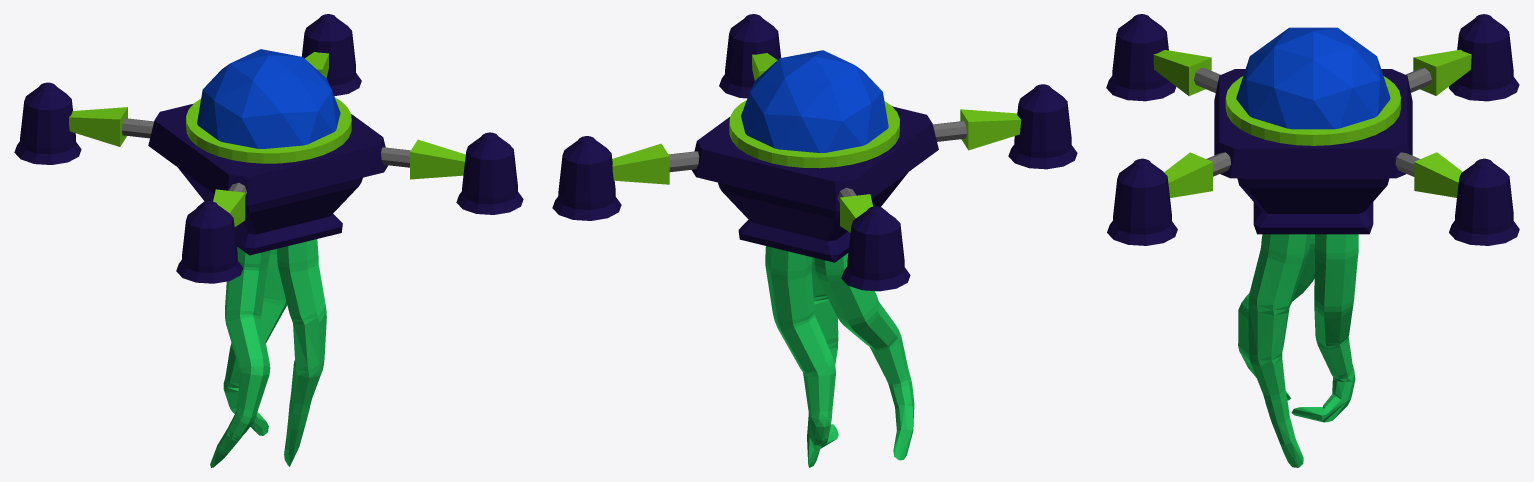
File: jellyfishBoss_18.obj
3 views of the same model, side by side, from view 1: azimuth 30°, elevation 25°; view 2: azimuth 150°, elevation 25°; view 3: azimuth 270°, elevation 25° (orthographic). The views are drawn at different scales.
Visible parts, largest first — view 1: Base_Cube.001, Head_Icosphere, Cylinder.002_Cylinder.001, Cylinder.003_Cylinder.002, Rocket_2_Cylinder.014, Rocket_1_Cylinder.003, Rocket_3_Cylinder.016, Cylinder, Rocket_4_Cylinder.018, Cylinder.001_Cylinder.012, B_Arm_1_Cube.002, B_Arm_3_Cube.011 (+2 smaller); view 2: Base_Cube.001, Head_Icosphere, Cylinder.001_Cylinder.012, Cylinder.003_Cylinder.002, Rocket_3_Cylinder.016, Rocket_4_Cylinder.018, Rocket_2_Cylinder.014, Cylinder, Rocket_1_Cylinder.003, B_Arm_4_Cube.012, B_Arm_2_Cube.010, Cylinder.002_Cylinder.001 (+3 smaller); view 3: Base_Cube.001, Head_Icosphere, Cylinder.002_Cylinder.001, Cylinder.001_Cylinder.012, Rocket_1_Cylinder.003, Rocket_4_Cylinder.018, Rocket_3_Cylinder.016, Rocket_2_Cylinder.014, Cylinder, B_Arm_2_Cube.010, B_Arm_3_Cube.011, B_Arm_4_Cube.012 (+4 smaller).
Part boxes in pixels (x1,y1,x2,y2): Base_Cube.001: (148, 103, 388, 255); Head_Icosphere: (197, 49, 340, 148); Cylinder.002_Cylinder.001: (276, 239, 326, 466); Cylinder.003_Cylinder.002: (210, 247, 270, 467); Rocket_2_Cylinder.014: (176, 201, 243, 283); Rocket_1_Cylinder.003: (456, 132, 523, 214); Rocket_3_Cylinder.016: (14, 82, 81, 164); Cylinder: (186, 97, 351, 163); Rocket_4_Cylinder.018: (302, 14, 361, 96); Cylinder.001_Cylinder.012: (223, 249, 287, 435); B_Arm_1_Cube.002: (410, 139, 465, 179); B_Arm_3_Cube.011: (69, 107, 127, 146); Base_Cube.001: (691, 106, 938, 262); Head_Icosphere: (741, 50, 888, 152); Cylinder.001_Cylinder.012: (765, 246, 838, 449); Cylinder.003_Cylinder.002: (814, 253, 914, 460); Rocket_3_Cylinder.016: (841, 206, 910, 291); Rocket_4_Cylinder.018: (552, 136, 621, 220); Rocket_2_Cylinder.014: (1008, 84, 1077, 169); Cylinder: (729, 100, 899, 168); Rocket_1_Cylinder.003: (719, 14, 781, 98); B_Arm_4_Cube.012: (612, 143, 669, 184); B_Arm_2_Cube.010: (960, 109, 1021, 150); Cylinder.002_Cylinder.001: (807, 257, 838, 467); Base_Cube.001: (1214, 69, 1412, 234); Head_Icosphere: (1236, 27, 1390, 129); Cylinder.002_Cylinder.001: (1248, 234, 1311, 467); Cylinder.001_Cylinder.012: (1291, 234, 1358, 422); Rocket_1_Cylinder.003: (1107, 158, 1177, 245); Rocket_4_Cylinder.018: (1449, 158, 1519, 245); Rocket_3_Cylinder.016: (1448, 14, 1519, 101); Rocket_2_Cylinder.014: (1106, 14, 1176, 101); Cylinder: (1225, 76, 1400, 145); B_Arm_2_Cube.010: (1153, 50, 1211, 95); B_Arm_3_Cube.011: (1413, 49, 1471, 95); B_Arm_4_Cube.012: (1414, 152, 1462, 197).
Bounding box in the file's own units: 14.77 × 16.97 × 14.77.
